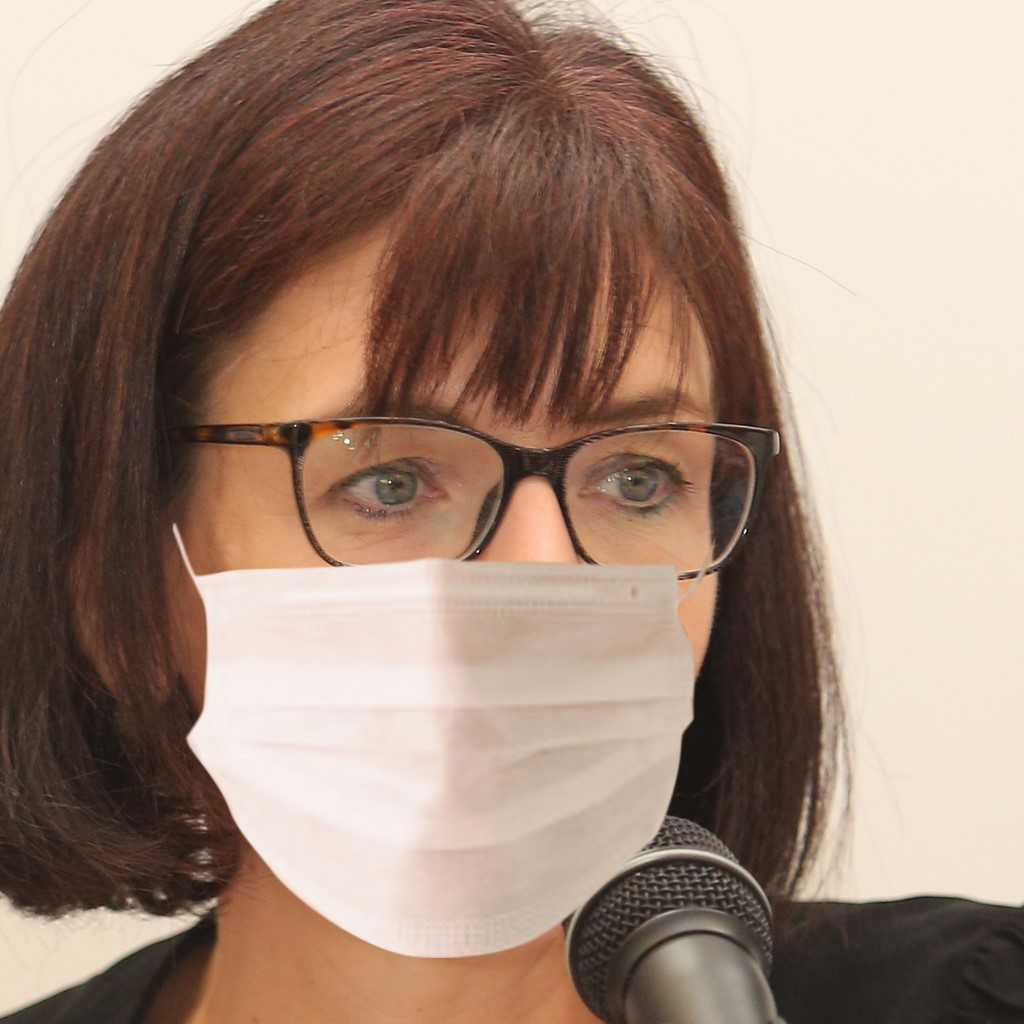con_mascara: (121, 162, 730, 971)
